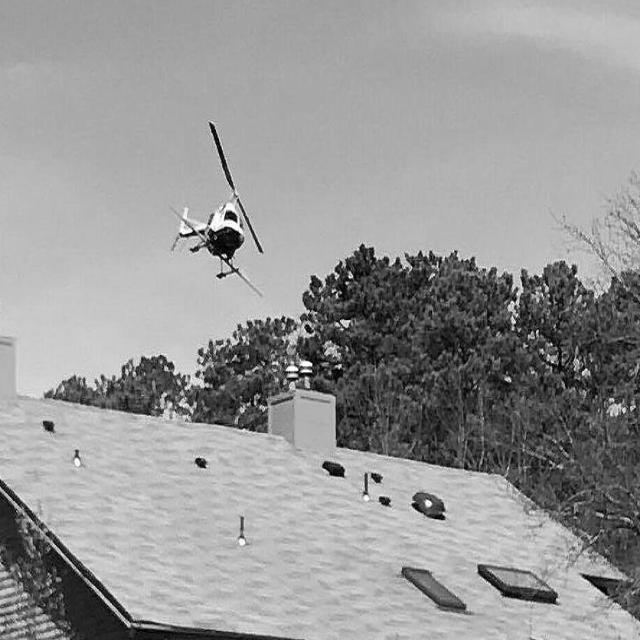helicopter: (172, 118, 267, 308)
